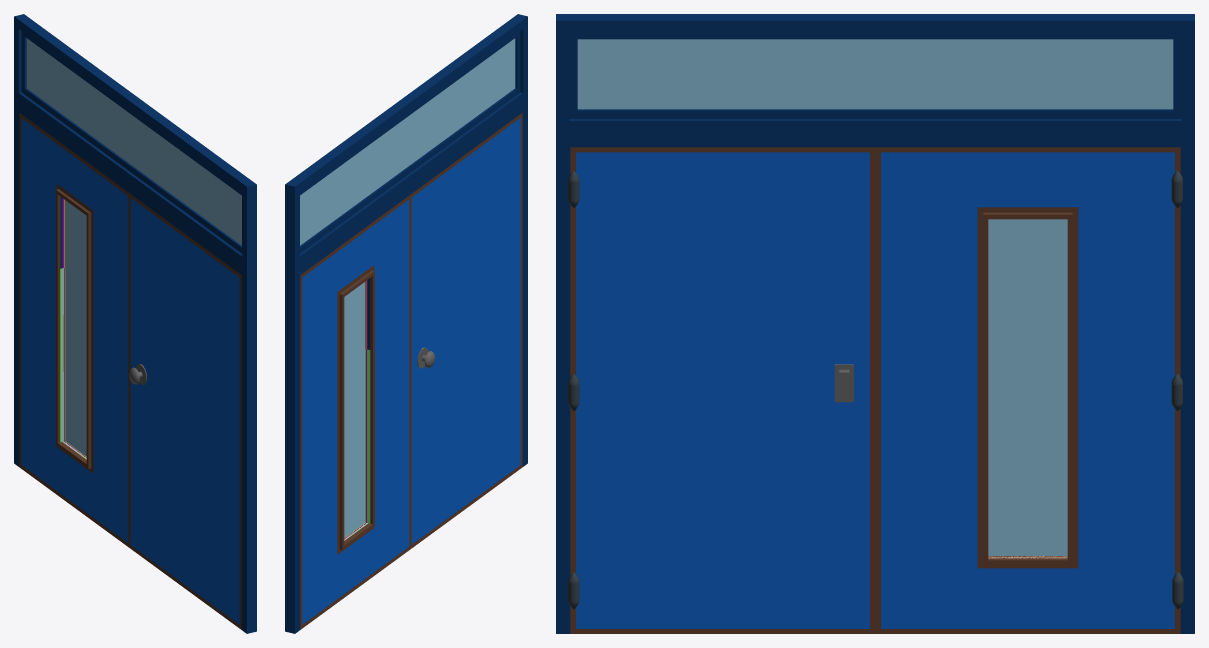
The model's file is Puerta_GuidoZ_46919295.fbx.
The picture shows the model from 3 angles, left to right: view 1: azimuth 30°, elevation 25°; view 2: azimuth 150°, elevation 25°; view 3: azimuth 270°, elevation 25°; orthographic projection. The views are drawn at different scales.
Parts seen in each view (by area): view 1: Cube.004; view 2: Cube.004; view 3: Cube.004.
Part boxes in pixels (bbox=[...]): Cube.004: bbox=[14, 14, 256, 633]; Cube.004: bbox=[285, 14, 527, 633]; Cube.004: bbox=[556, 14, 1194, 633].
Size of the model in its own units: 13.21 by 216 by 204.
1 material, 1 textured.
